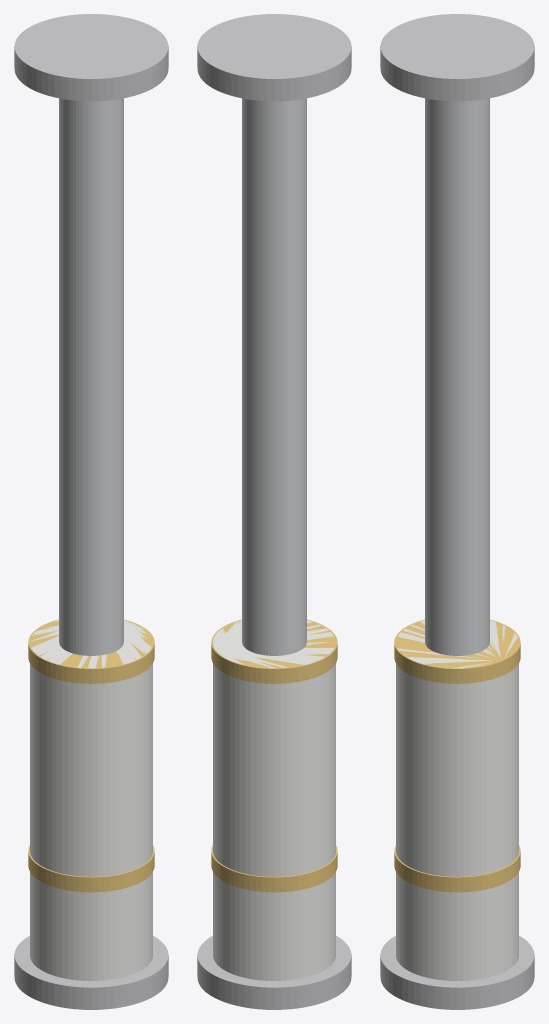
File: robo02_piston_m_extended.glb
The picture shows the model from 3 angles, left to right: view 1: azimuth 30°, elevation 25°; view 2: azimuth 150°, elevation 25°; view 3: azimuth 270°, elevation 25°; orthographic projection.
Visible parts, largest first — view 1: barrel, rod, rod_plate, barrel_bands, base_plate; view 2: barrel, rod, rod_plate, base_plate, barrel_bands; view 3: barrel, rod, rod_plate, barrel_bands, base_plate.
Part boxes in pixels (x1=…): barrel: x1=30, y1=620, x2=152, y2=980; rod: x1=59, y1=98, x2=123, y2=655; rod_plate: x1=14, y1=14, x2=168, y2=101; barrel_bands: x1=28, y1=619, x2=154, y2=892; base_plate: x1=14, y1=935, x2=168, y2=1009; barrel: x1=213, y1=620, x2=335, y2=980; rod: x1=242, y1=98, x2=306, y2=655; rod_plate: x1=197, y1=14, x2=351, y2=101; base_plate: x1=197, y1=935, x2=351, y2=1009; barrel_bands: x1=211, y1=619, x2=337, y2=892; barrel: x1=396, y1=620, x2=518, y2=980; rod: x1=425, y1=98, x2=489, y2=655; rod_plate: x1=380, y1=14, x2=534, y2=101; barrel_bands: x1=394, y1=619, x2=520, y2=892; base_plate: x1=380, y1=935, x2=534, y2=1009.
Bounding box in the file's own units: 0.5996 × 4 × 0.5998.
